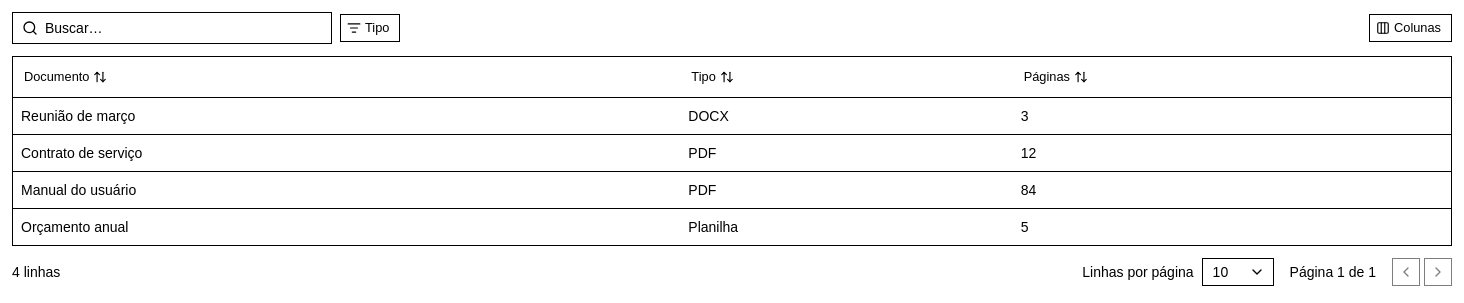
Test: DataTable, modo client › faceta de multi-seleção filtra e mostra a contagem de cada opção
The image size is (1464, 303).
Later steps or results of the test are not shown.
Click the 1st button "Tipo" at (370, 28), box [340,14,400,42]
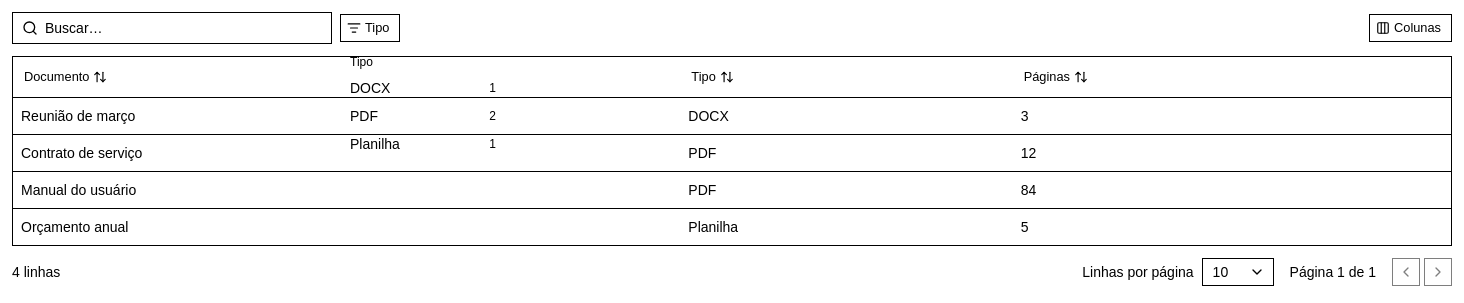
Expected: the menu item "PDF 2" is shown, [350,108,496,124]
Expected: the menu item "Planilha 1" is shown, [350,136,496,152]
